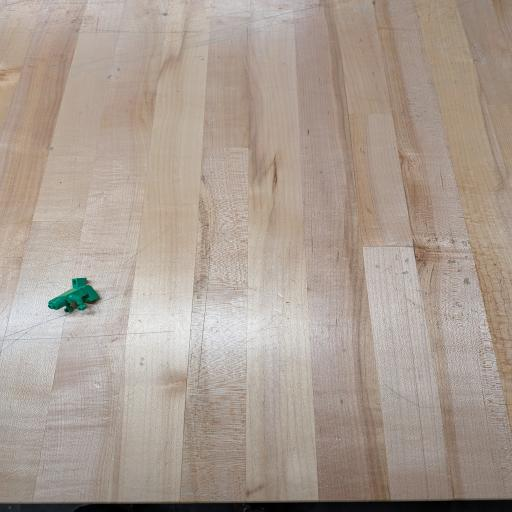Minifig: (48, 278, 98, 312)
